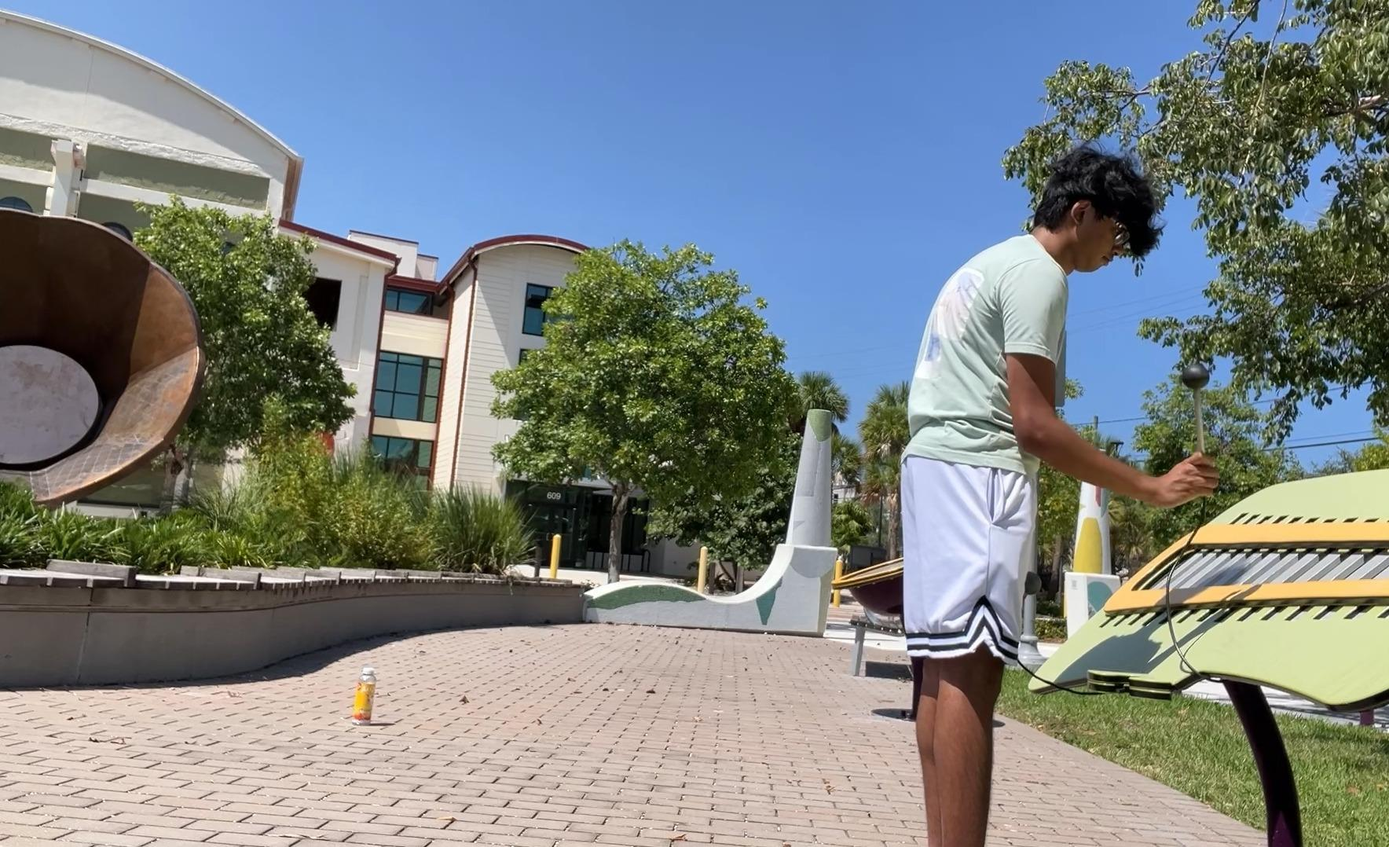Trash: (346, 659, 389, 733)
